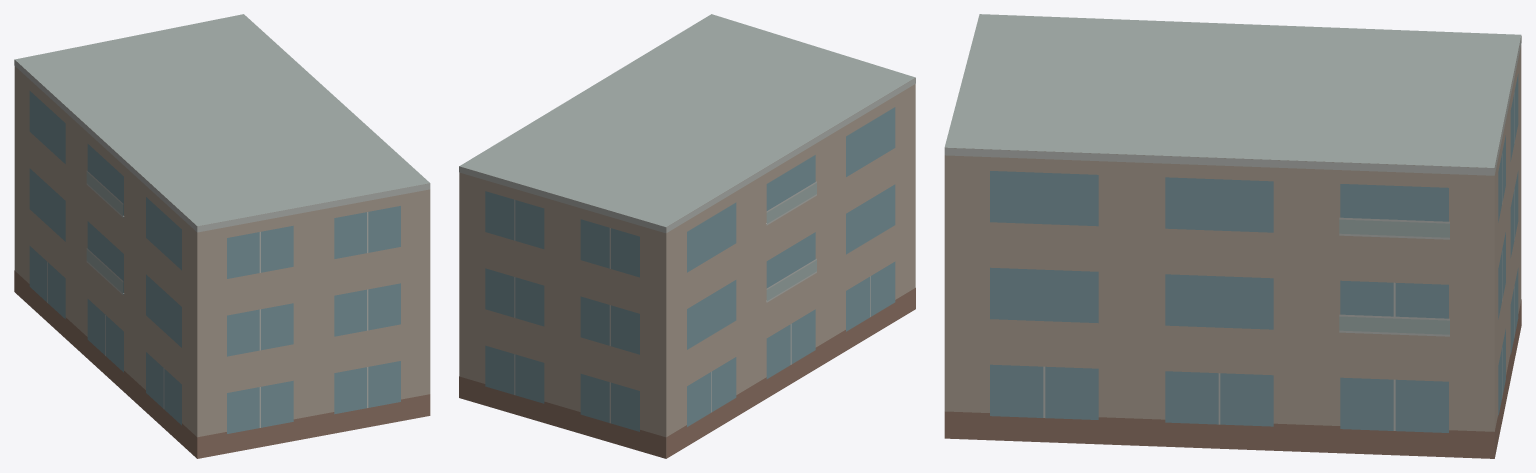
The model's file is survey-upis-32888069.glb.
The picture shows the model from 3 angles, left to right: view 1: azimuth 30°, elevation 25°; view 2: azimuth 150°, elevation 25°; view 3: azimuth 270°, elevation 25°; orthographic projection. The views are drawn at different scales.
Visible parts, largest first — view 1: survey-upis-32888069.tmp; view 2: survey-upis-32888069.tmp; view 3: survey-upis-32888069.tmp.
Boxes of the visible parts, x1=… form: survey-upis-32888069.tmp: x1=14, y1=14, x2=430, y2=458; survey-upis-32888069.tmp: x1=459, y1=14, x2=915, y2=458; survey-upis-32888069.tmp: x1=944, y1=14, x2=1521, y2=458.
Bounding box in the file's own units: 10.4 × 9.15 × 16.46.
